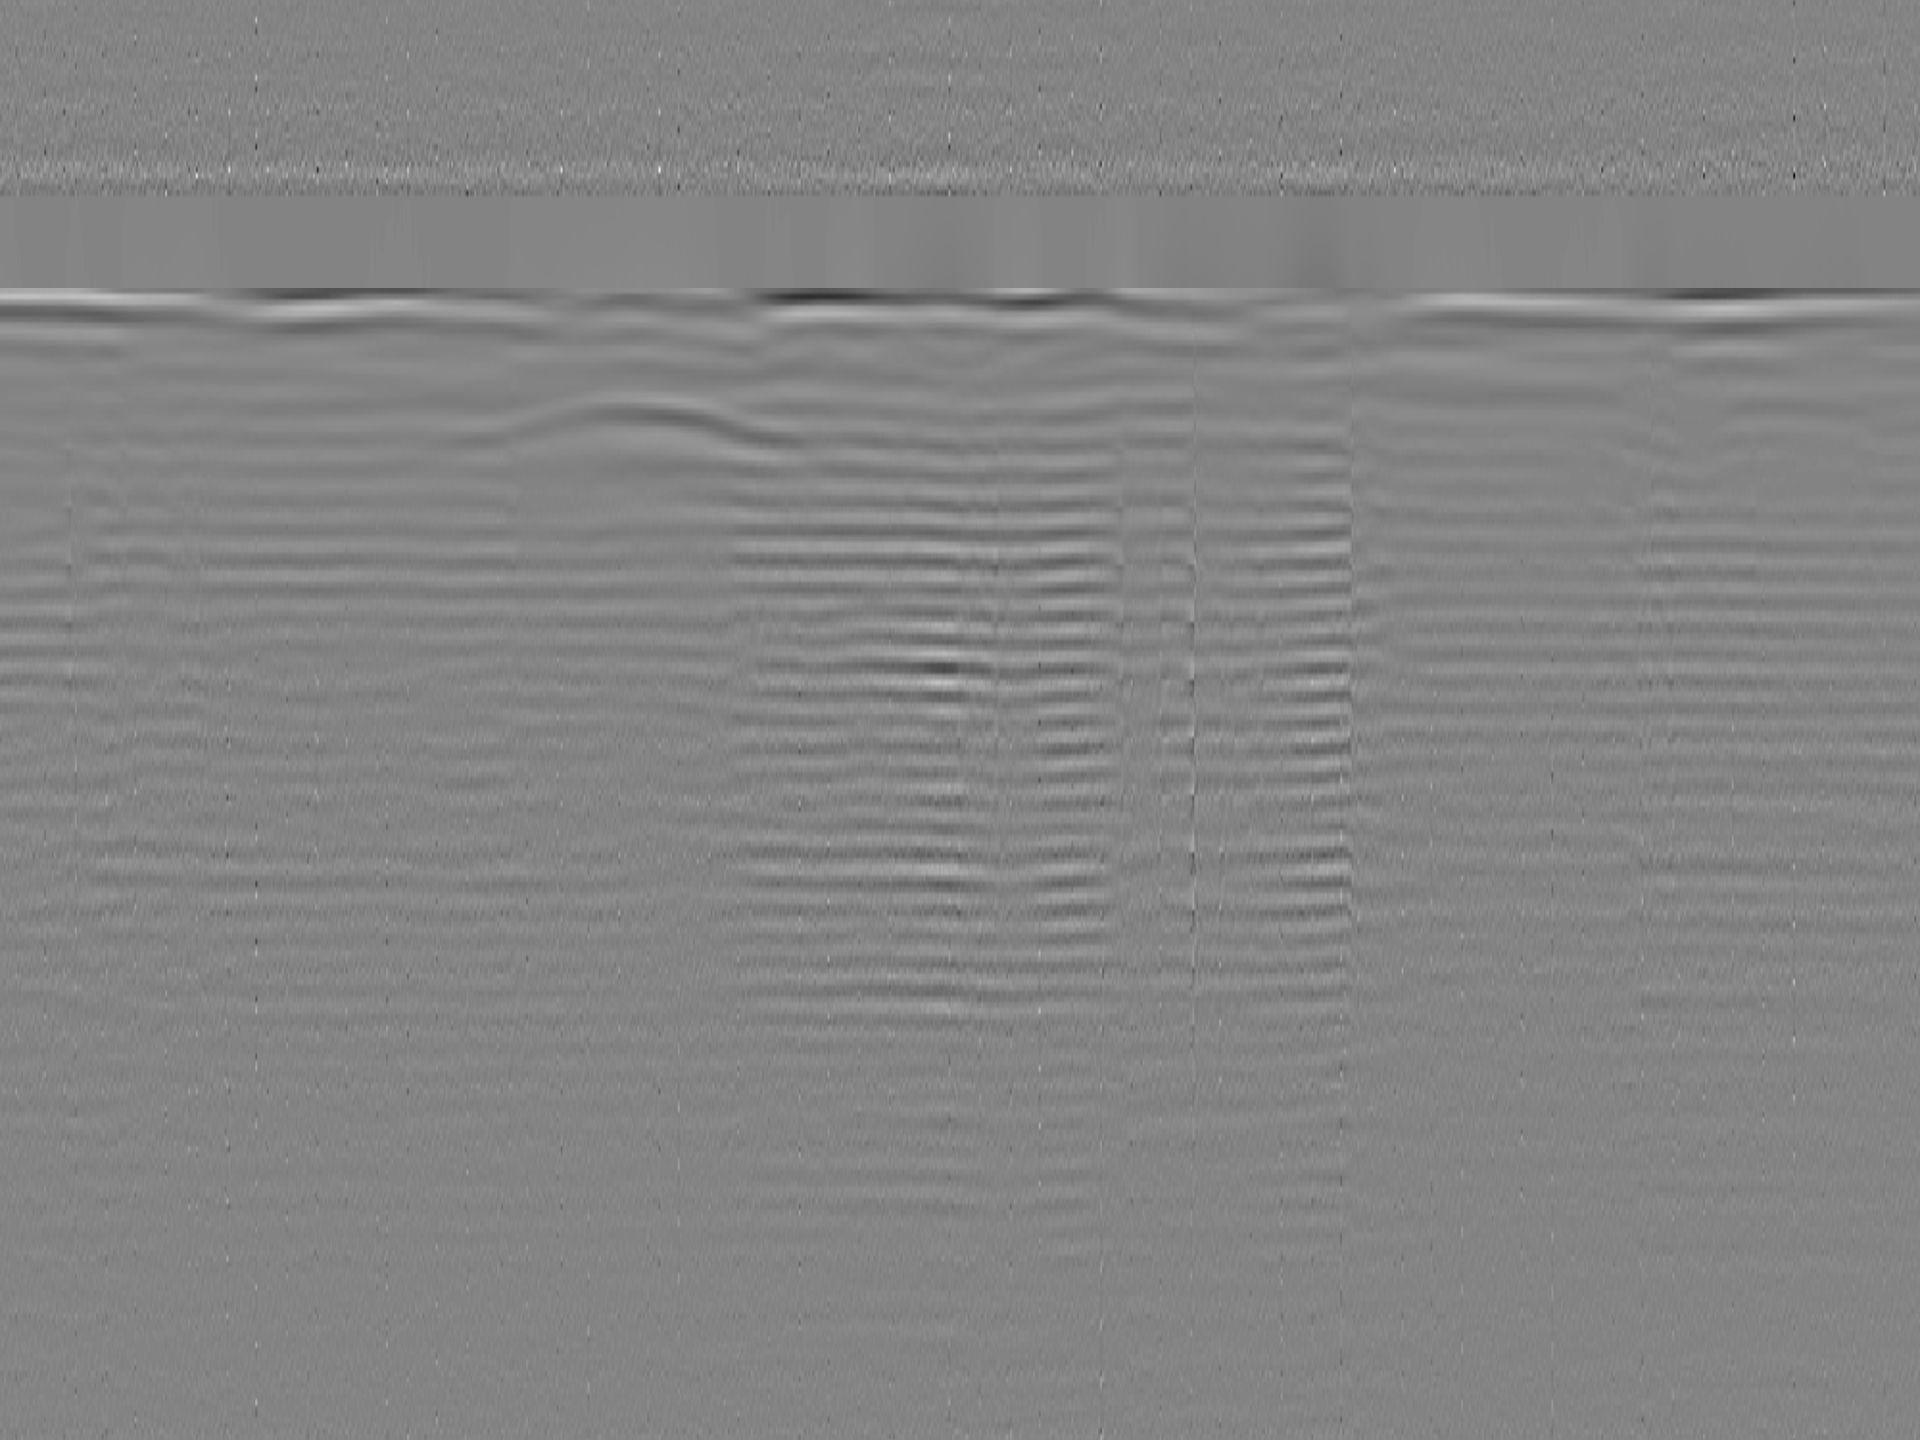Tunnel: (473, 392, 816, 461)
